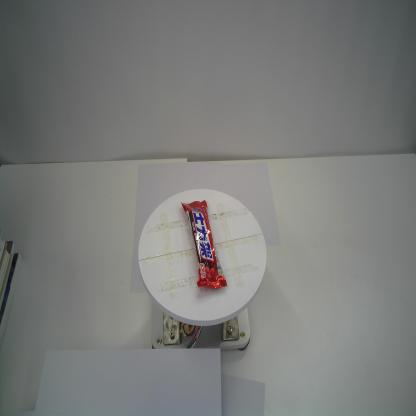Chocolate: (180, 199, 228, 289)
